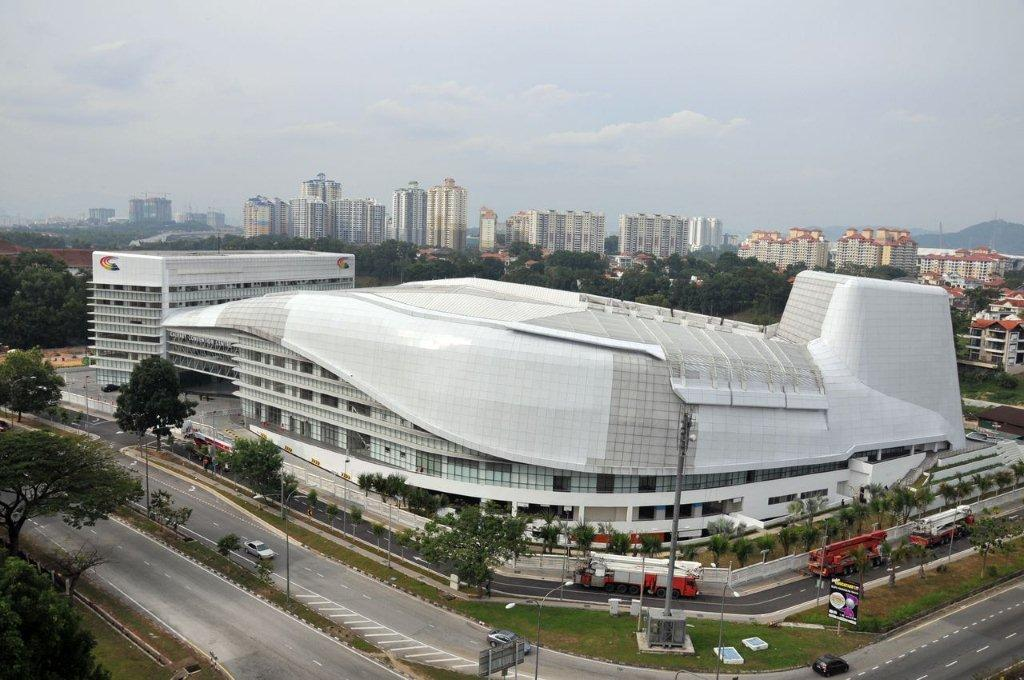Church: (85, 202, 884, 526)
